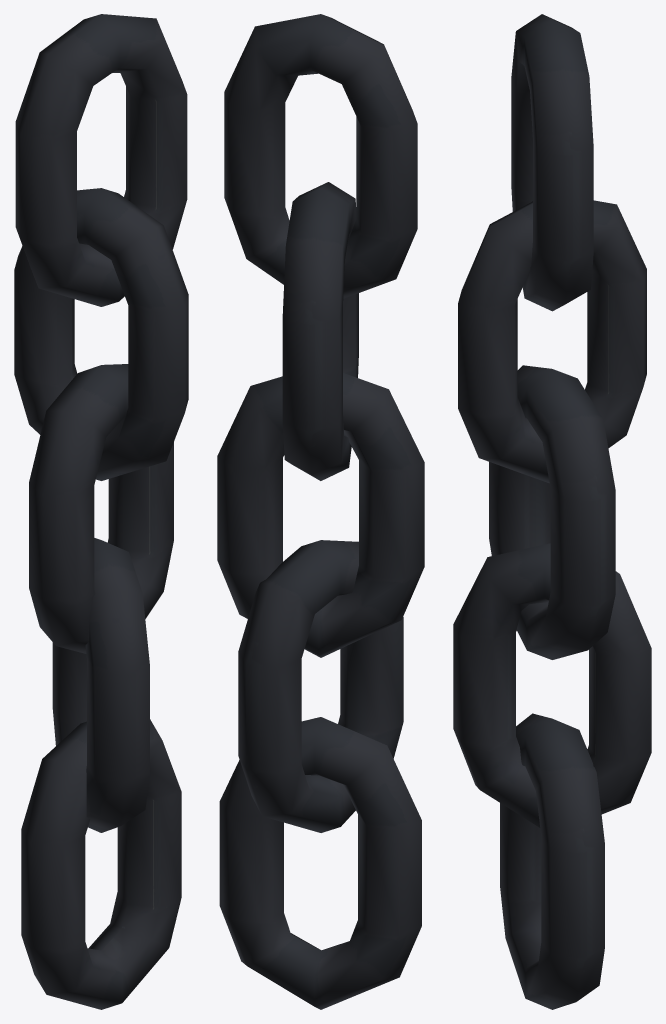
Rendered from SM_PROP_chain_dungeon_02.fbx.
3 renders of one model, left to right at view 1: azimuth 30°, elevation 25°; view 2: azimuth 150°, elevation 25°; view 3: azimuth 270°, elevation 25°, orthographic.
Parts seen in each view (by area): view 1: SM_PROP_chain_dungeon_02; view 2: SM_PROP_chain_dungeon_02; view 3: SM_PROP_chain_dungeon_02.
Part boxes in pixels (x1,y1,x2,y2): SM_PROP_chain_dungeon_02: (14, 14, 188, 1009); SM_PROP_chain_dungeon_02: (217, 14, 424, 1009); SM_PROP_chain_dungeon_02: (453, 14, 651, 1009).
Size of the model in its own units: 26.34 by 141 by 25.63.
